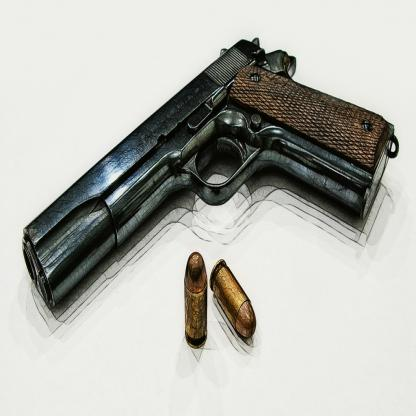Handgun: (21, 37, 399, 309)
